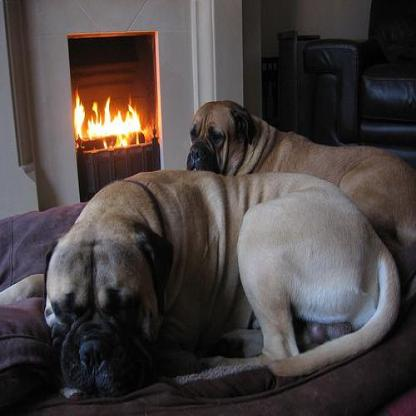bull_mastiff: (43, 168, 402, 396), (186, 96, 414, 308)
